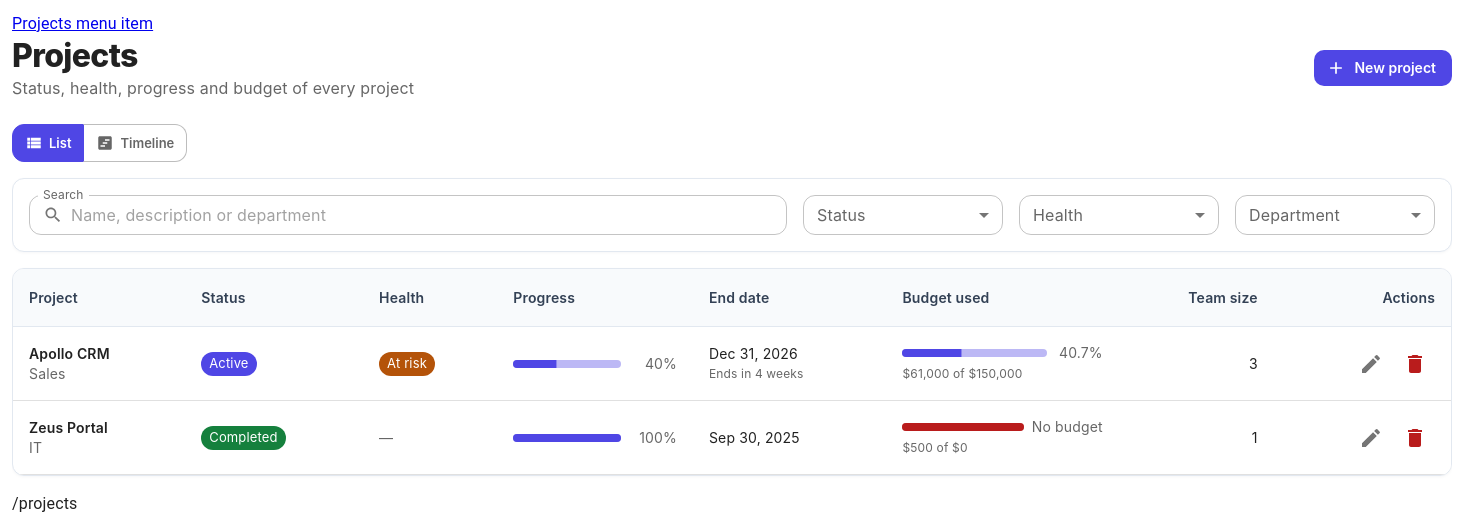
ProjectsPage › sends the search text and filters to the API as query parameters
Step 1. Type "crm" into the field labelled "Search" → (429, 215), box [71,195,787,235]
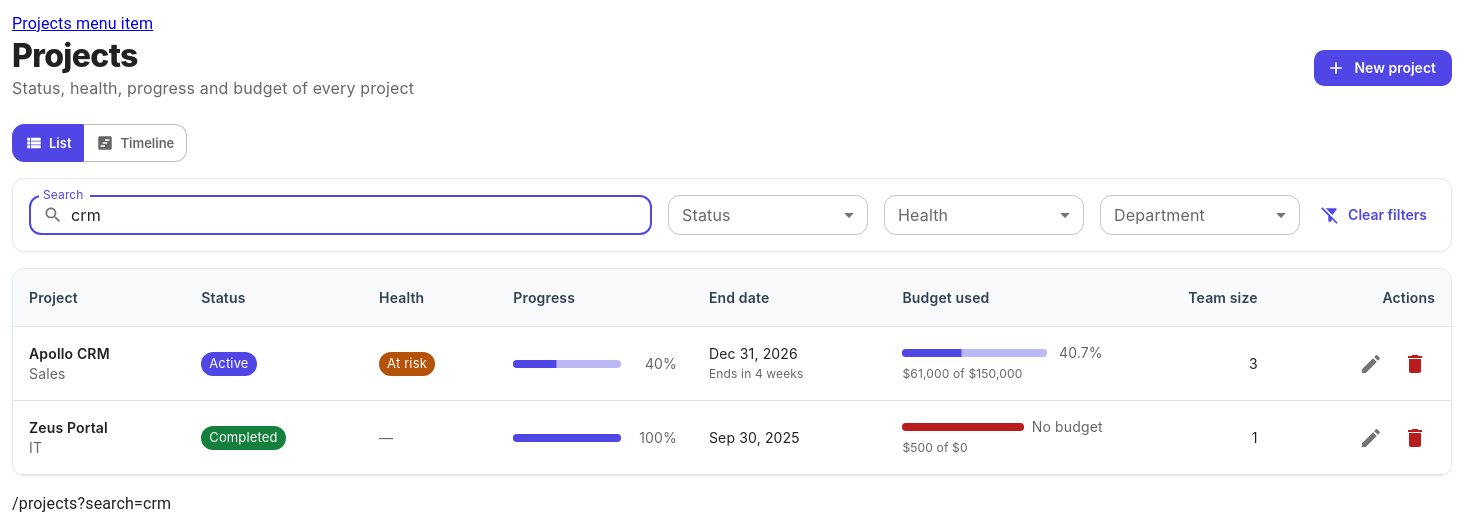
Step 2. Click the 1st dropdown named "Status" → (768, 215), box [668,195,868,235]
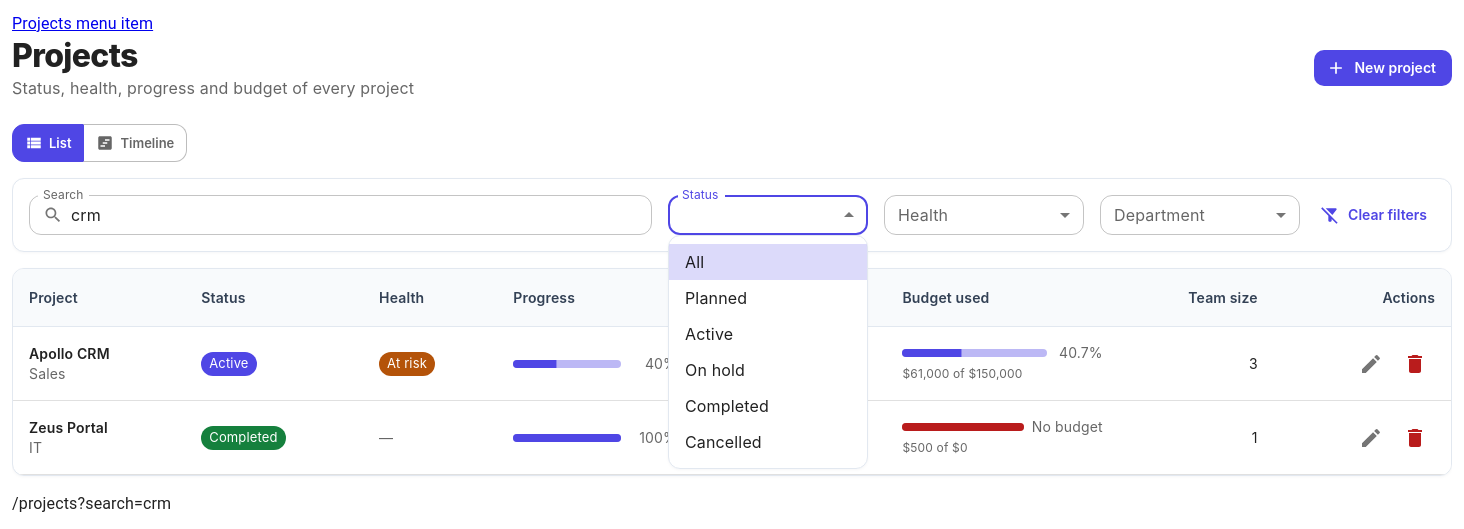
Step 3. Click the option "Active" → (709, 334), box [685,324,733,344]
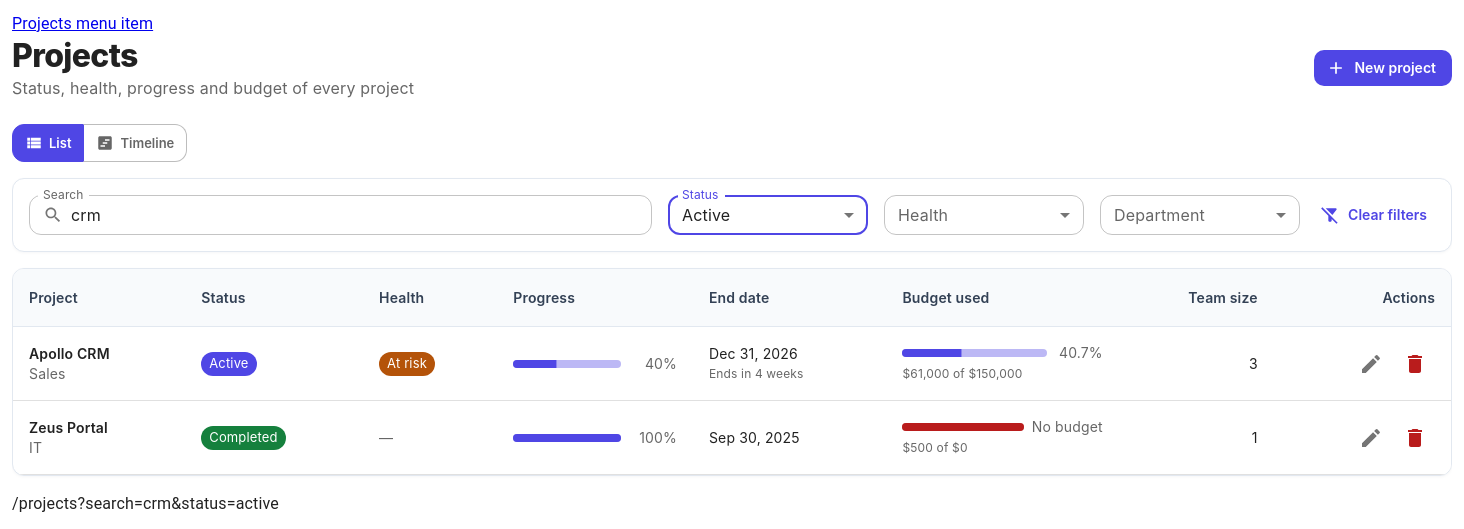
Result: the list is gone
Step 4. Click the 1st dropdown named "Health" → (984, 215), box [884,195,1084,235]
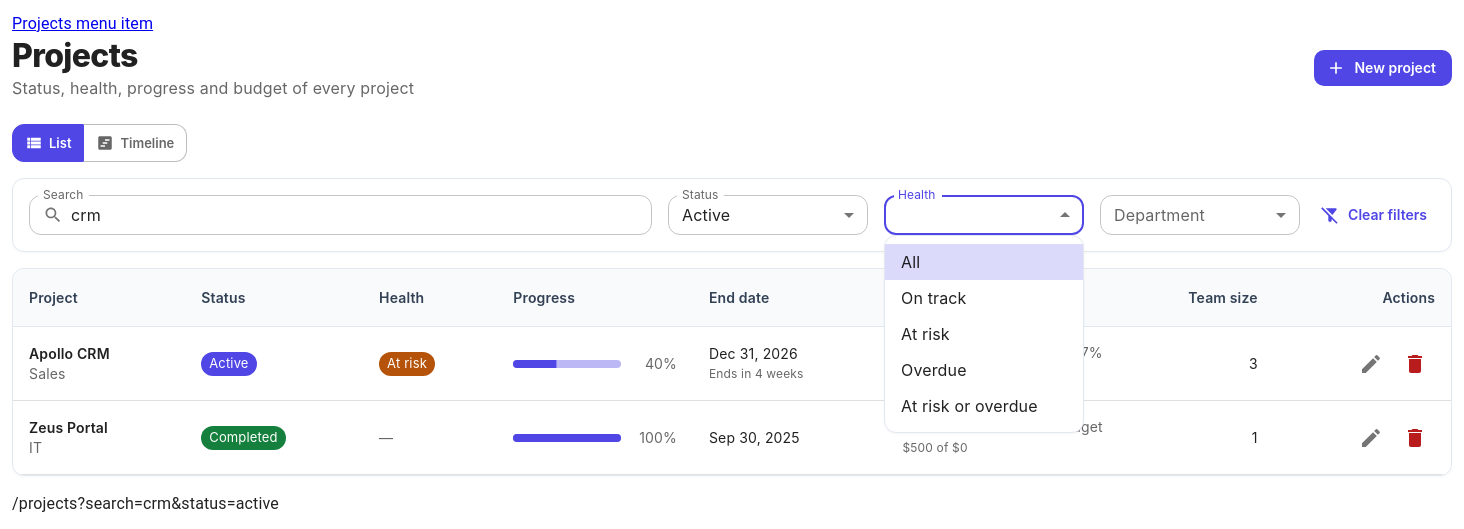
Step 5. Click the option "At risk" → (925, 334), box [901,324,950,344]
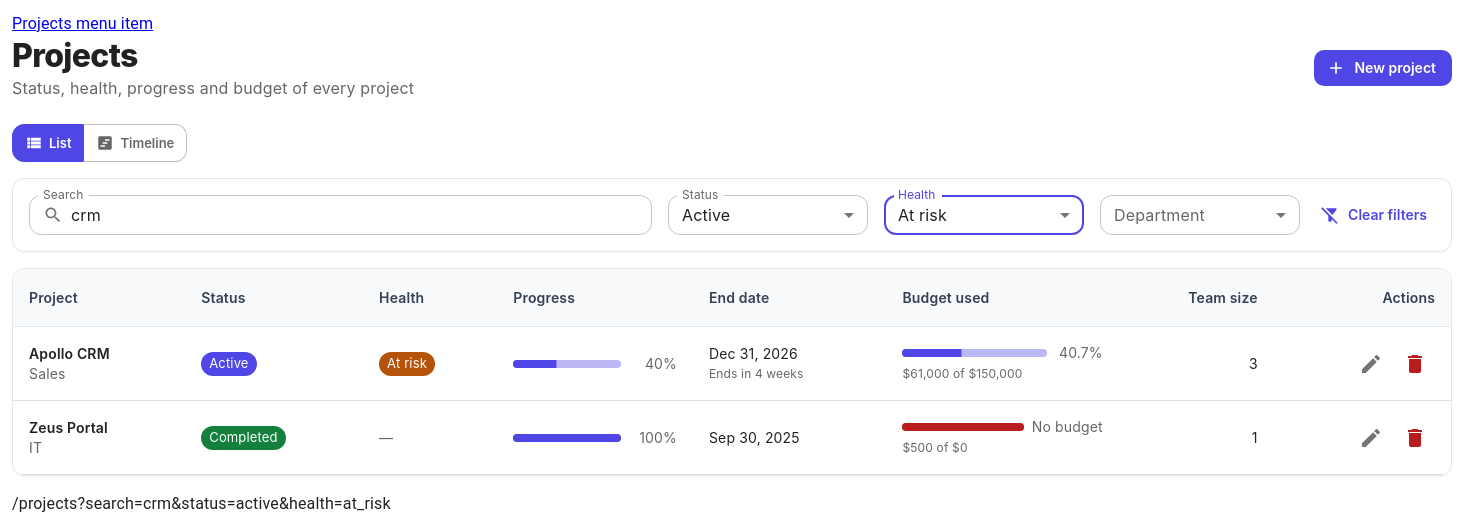
Result: the list is gone
